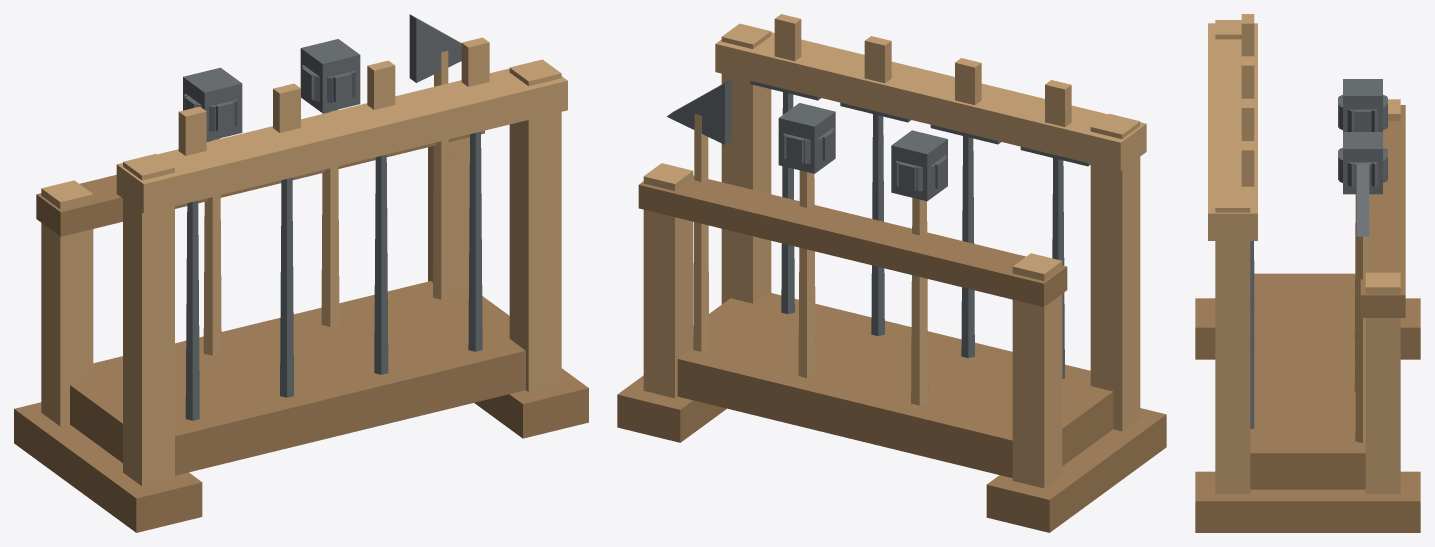
Rendered from weapon-rack-blunted.glb.
3 renders of one model, left to right at view 1: azimuth 30°, elevation 25°; view 2: azimuth 150°, elevation 25°; view 3: azimuth 270°, elevation 25°, orthographic. The views are drawn at different scales.
Visible parts, largest first — view 1: weapon-rack-blunted; view 2: weapon-rack-blunted; view 3: weapon-rack-blunted.
Part boxes in pixels (x1=…): weapon-rack-blunted: x1=14, y1=14, x2=588, y2=532; weapon-rack-blunted: x1=617, y1=14, x2=1166, y2=532; weapon-rack-blunted: x1=1195, y1=14, x2=1420, y2=532.
Size of the model in its own units: 1.92 by 1.54 by 0.9001.
